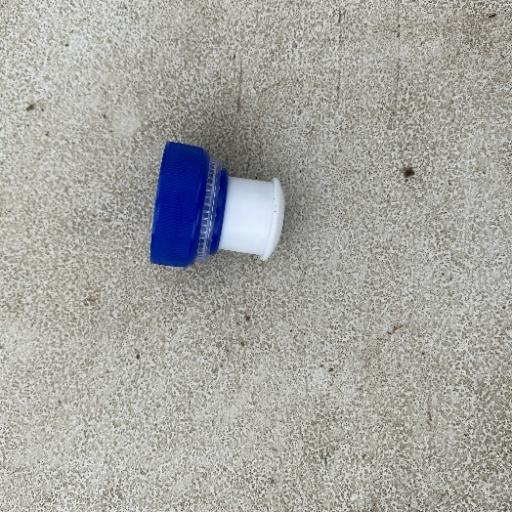Plastic: (147, 138, 287, 270)
